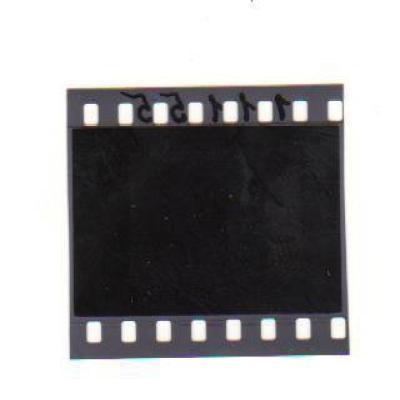photos_negatives: (72, 128, 341, 303)
